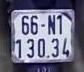0: (37, 39, 46, 58)
1: (57, 14, 66, 35), (15, 39, 22, 59)
3: (51, 37, 59, 60), (27, 38, 35, 58)
4: (62, 37, 71, 61)
6: (30, 14, 39, 35), (22, 15, 30, 36)
N: (46, 13, 57, 35)
